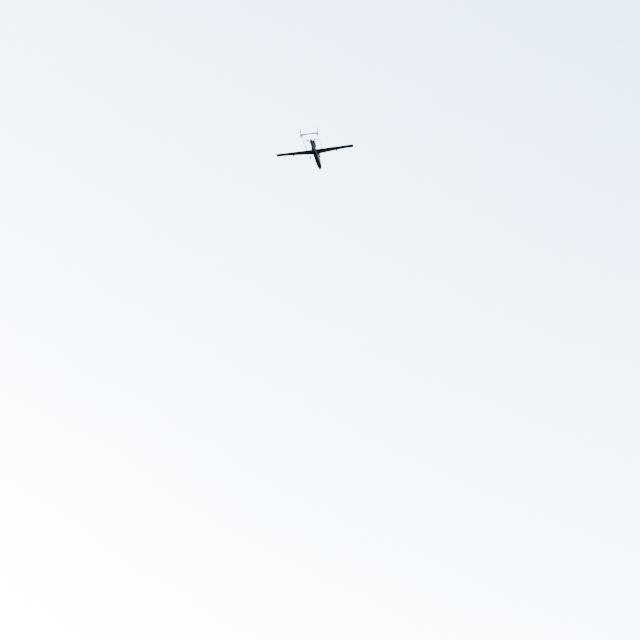Airaplan: (276, 126, 354, 170)
